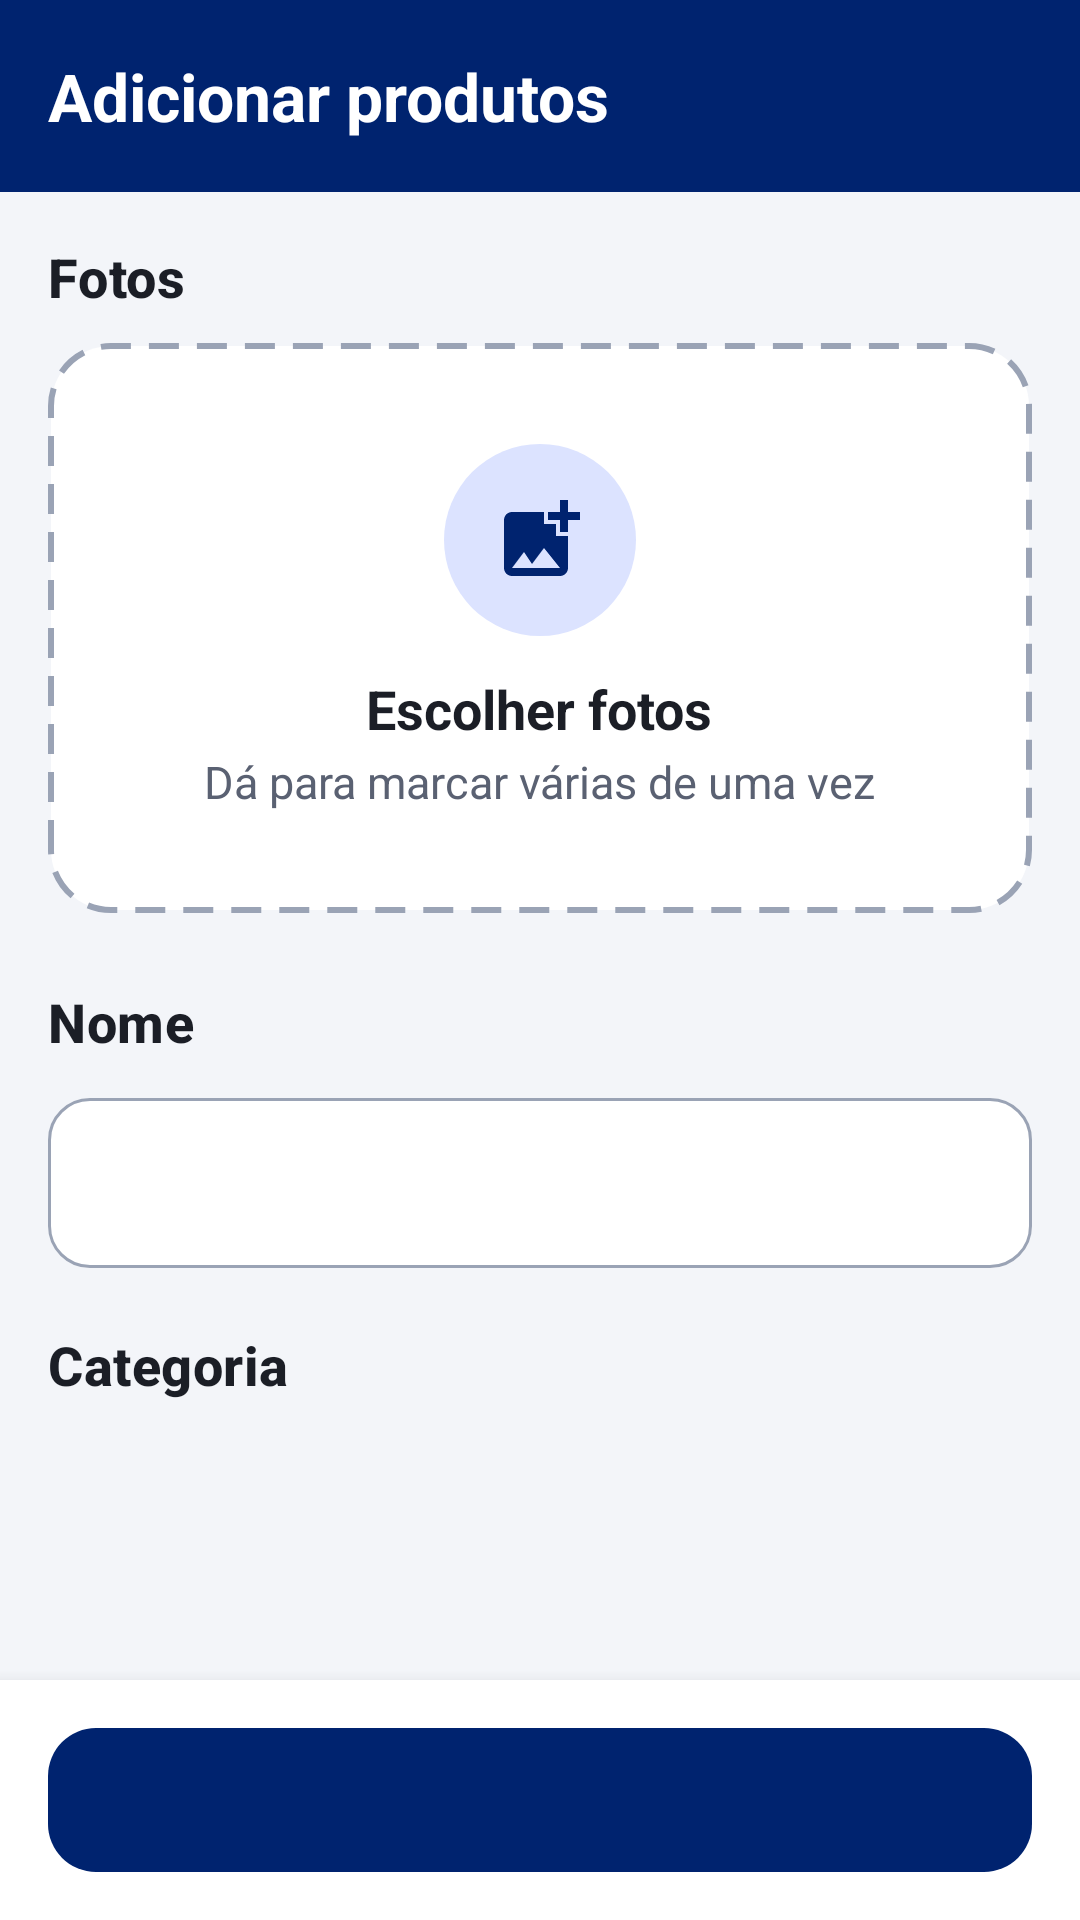

Icons on this 1080px x 1920px Android screen, each with its box as bbox(x1, y1, x2, y2):
foto adicionar: bbox(504, 500, 580, 576)
